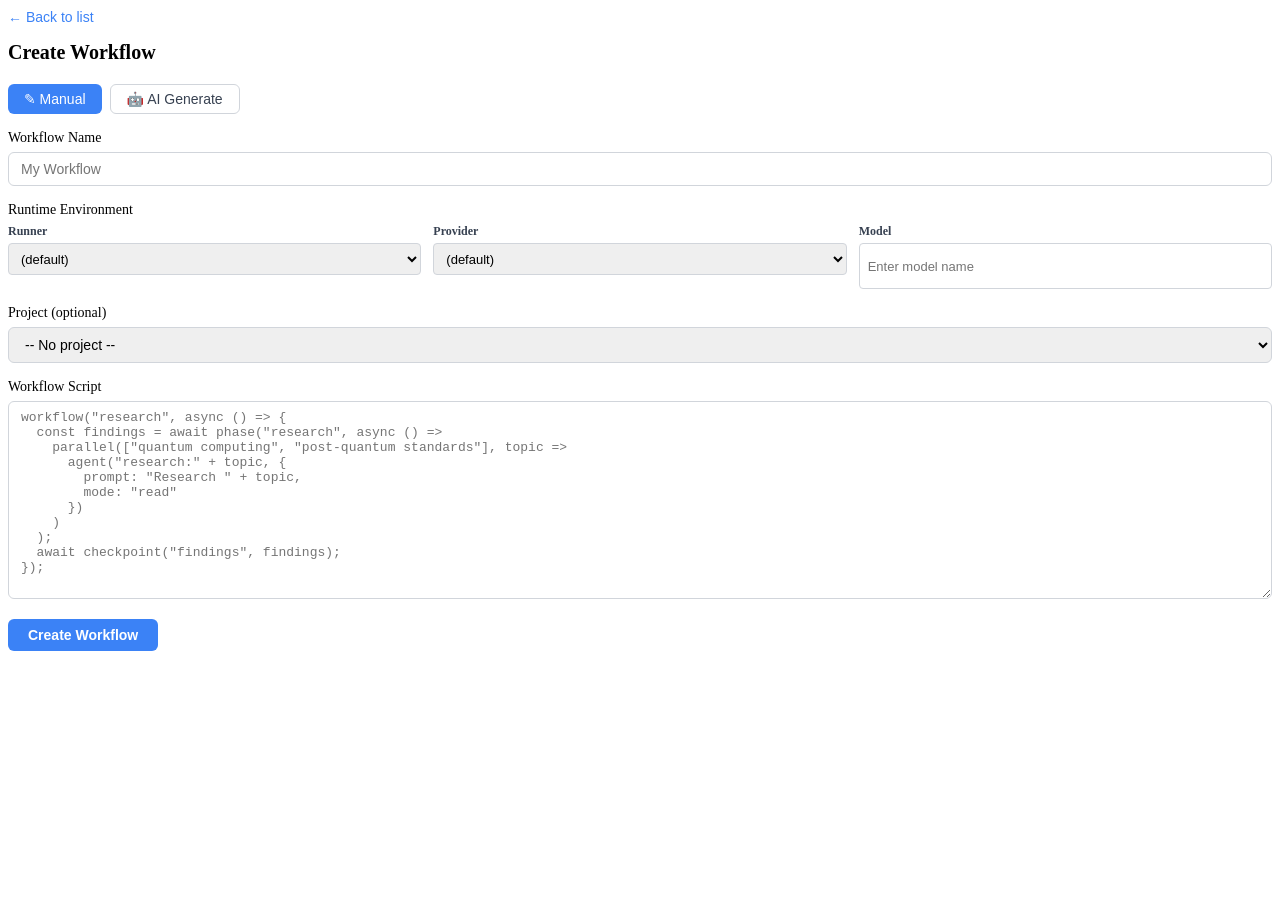
Test: CreateWorkflowForm › shows API error message on failure
The width and height of the screenshot is (1280, 900).
Type "Test" into the field labelled "Workflow Name" at (640, 169), box [8, 152, 1272, 186]
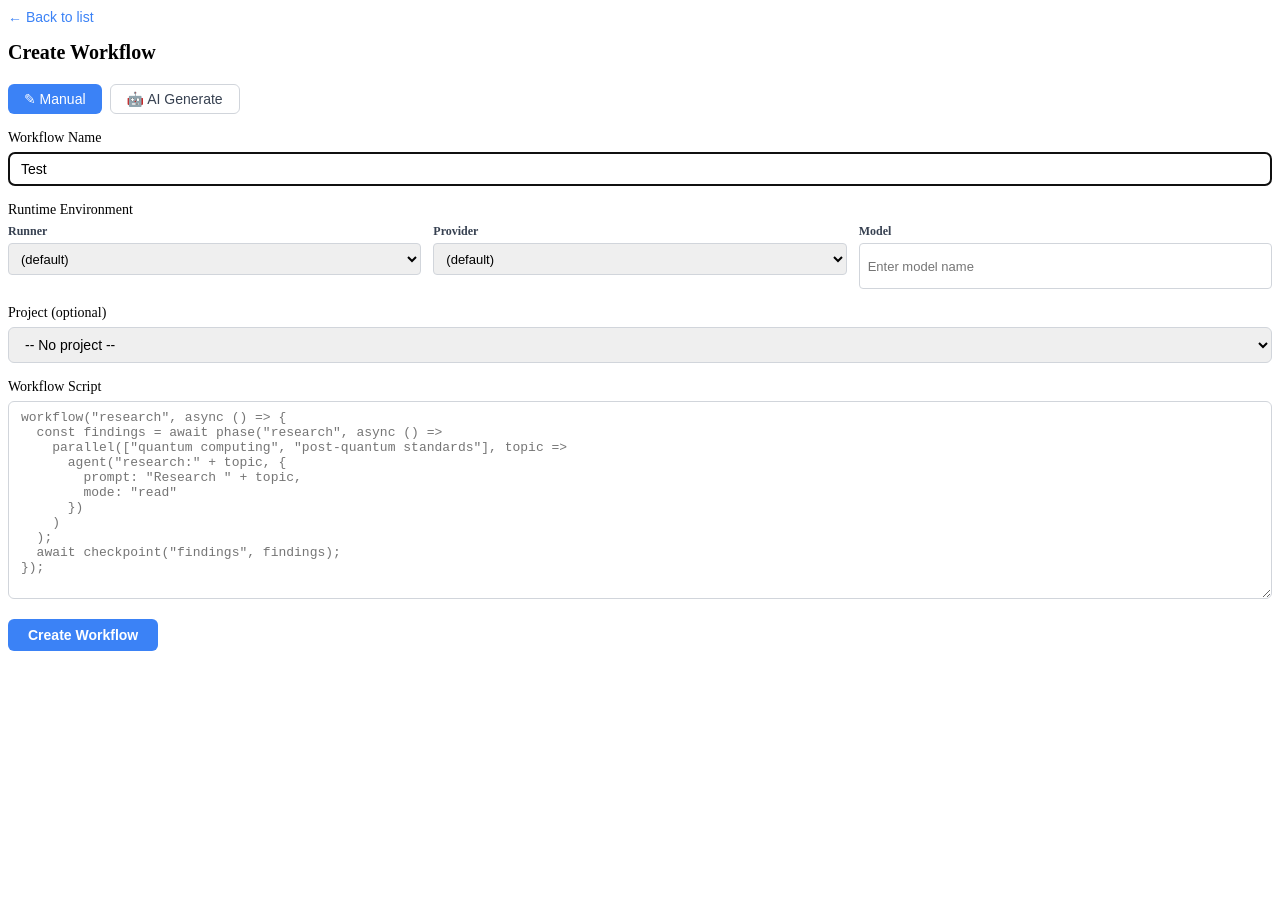
Type "bad script" into the text box labelled "Workflow Script" at (640, 500), box [8, 401, 1272, 599]
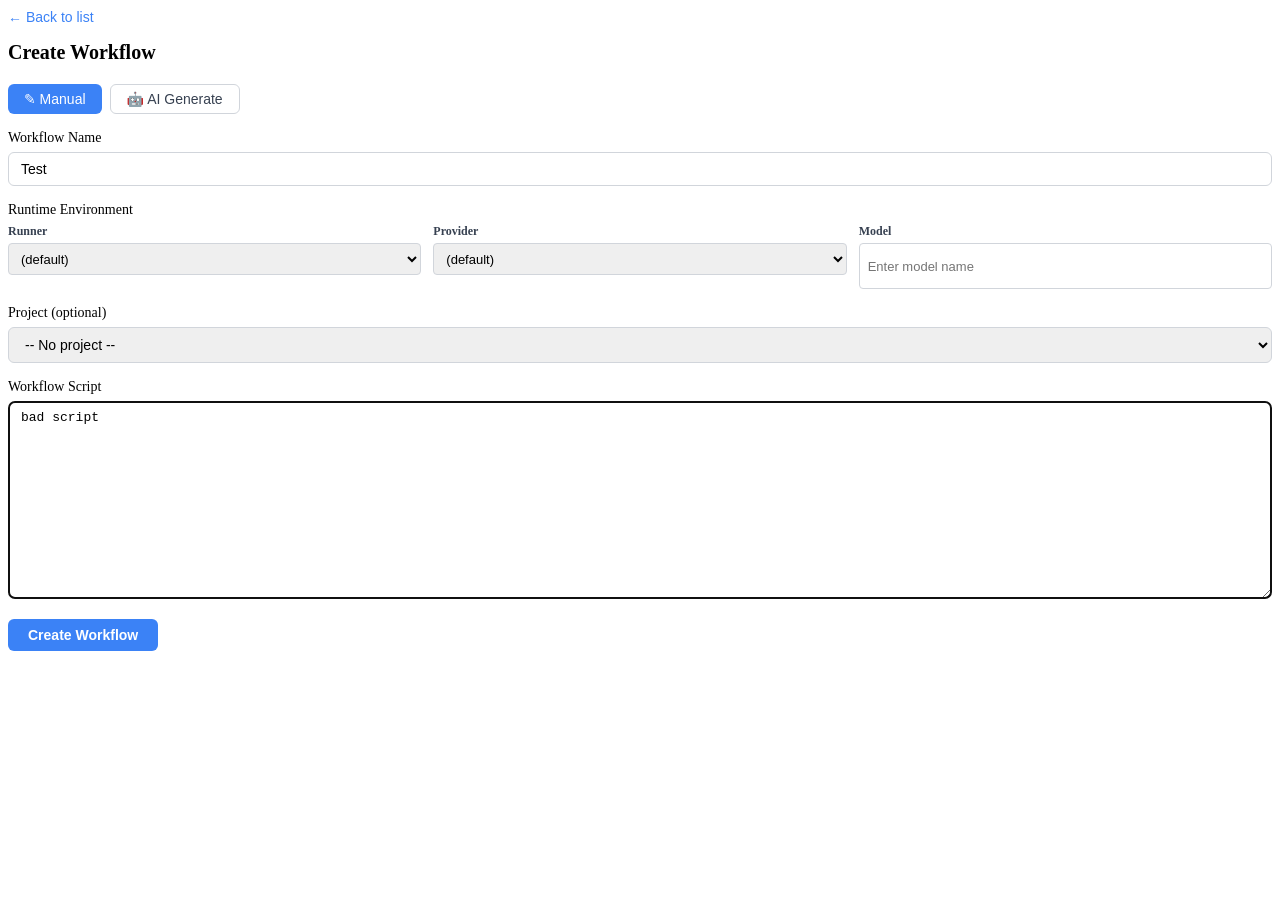
Click the button "Create Workflow" at (83, 635), box [8, 619, 158, 651]
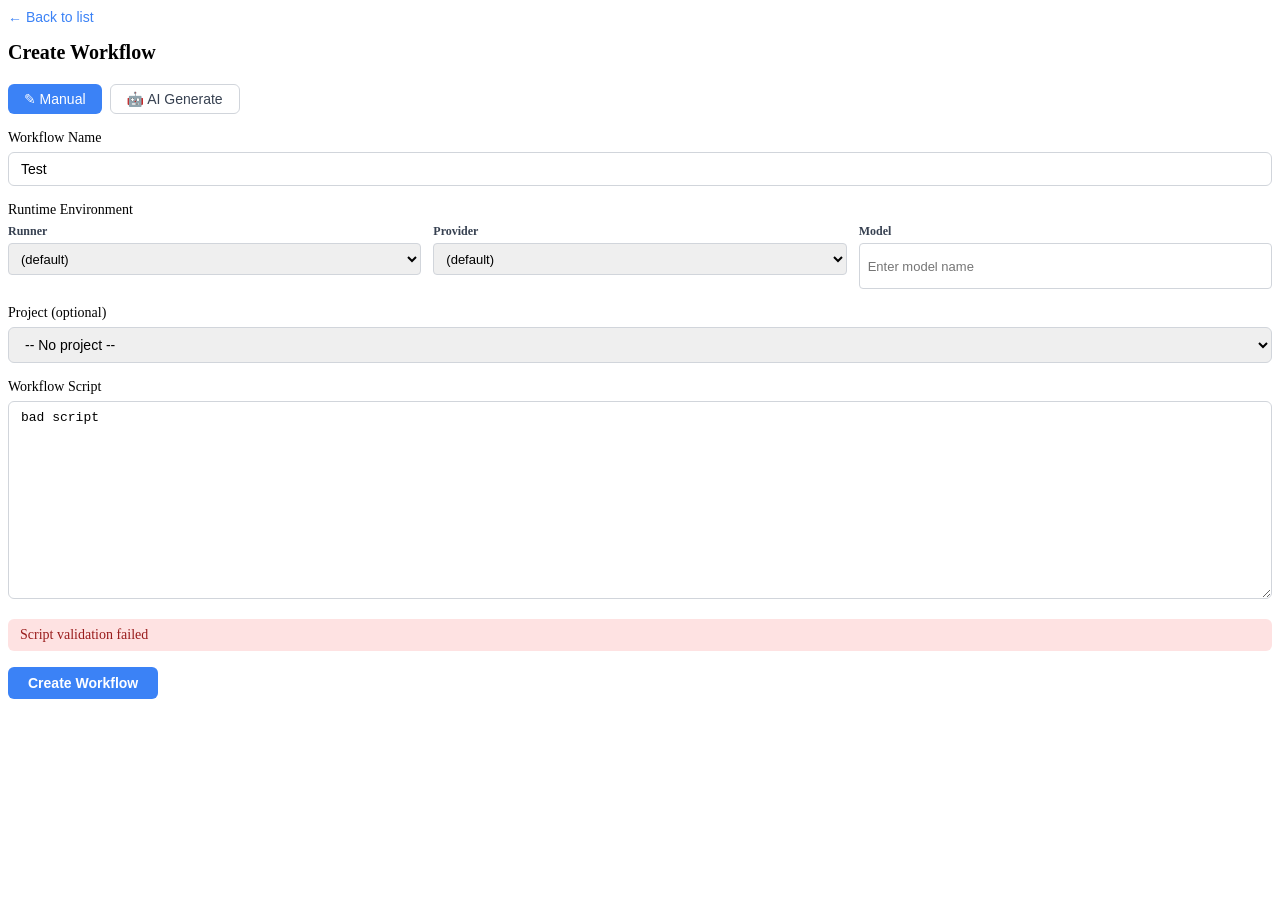
Expected: the text "Script validation failed" is shown, [8, 619, 1272, 651]
